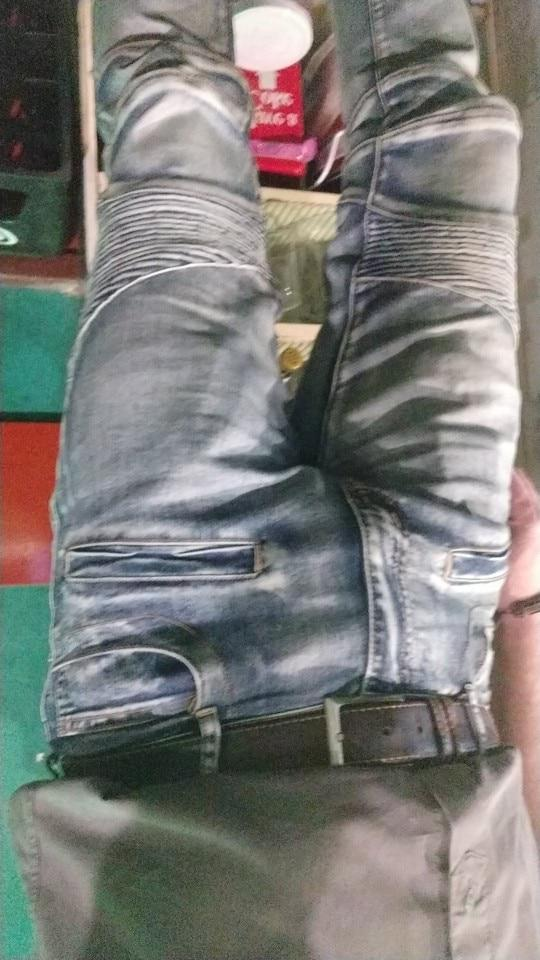jeans: (48, 17, 516, 793)
